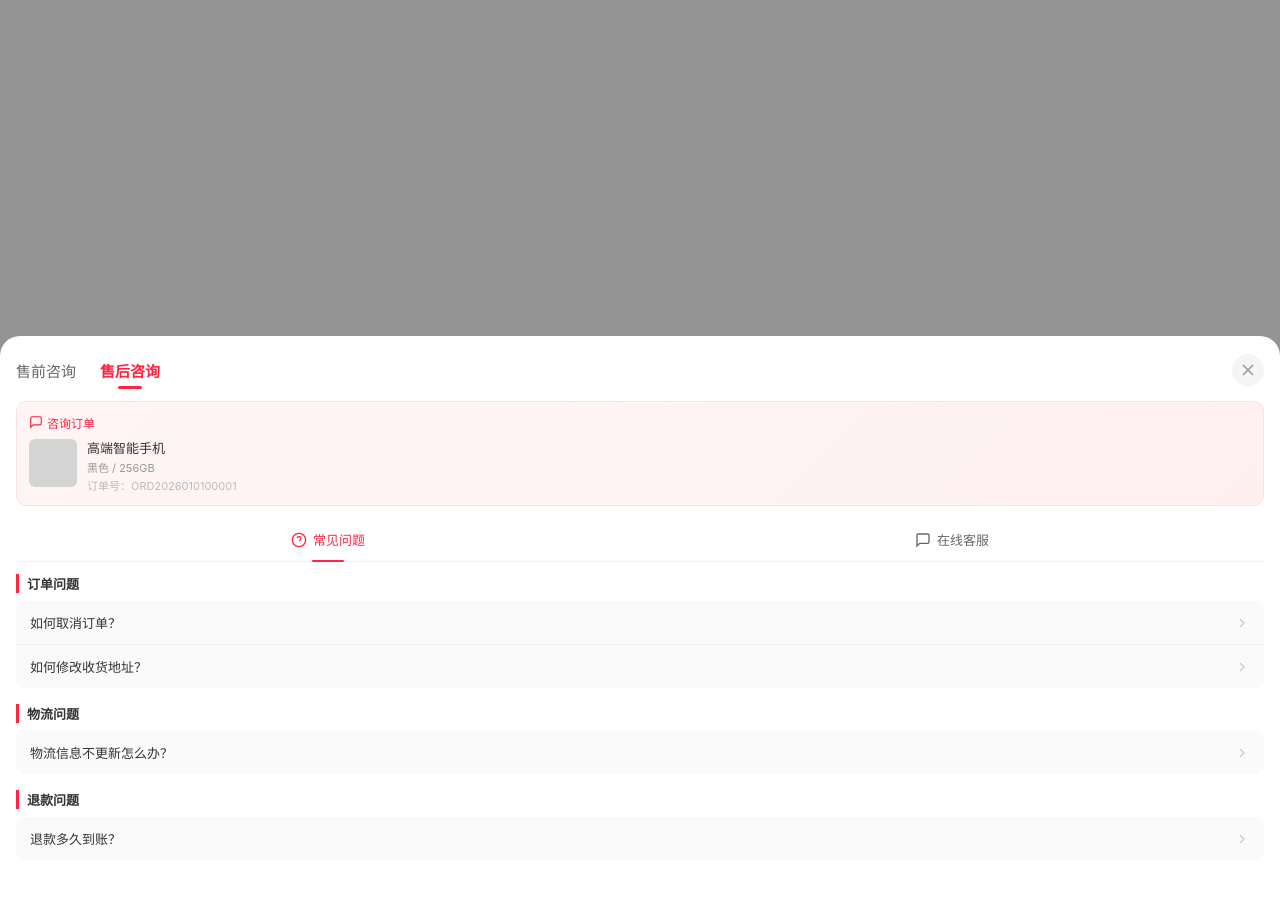
Test: CsServicePanel 联系客服入口 › 聊天模式 › 点击快捷操作应发送对应消息
Click the element with class "cs-tabs-bar__item" showing "在线客服". click: (952, 540)
box: [915,532,989,548]
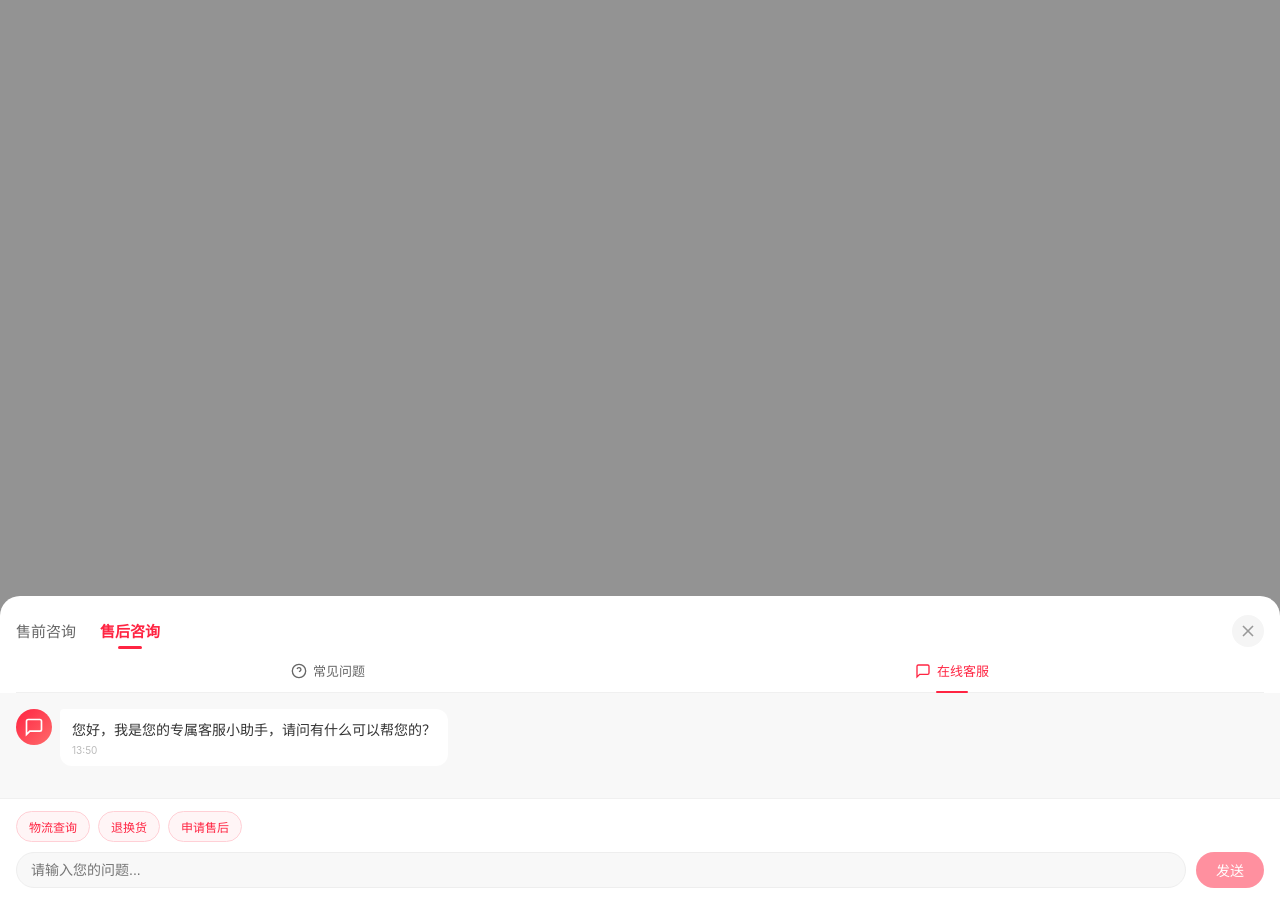
Click the button "物流查询". click: (53, 826)
box: [16,811,90,842]
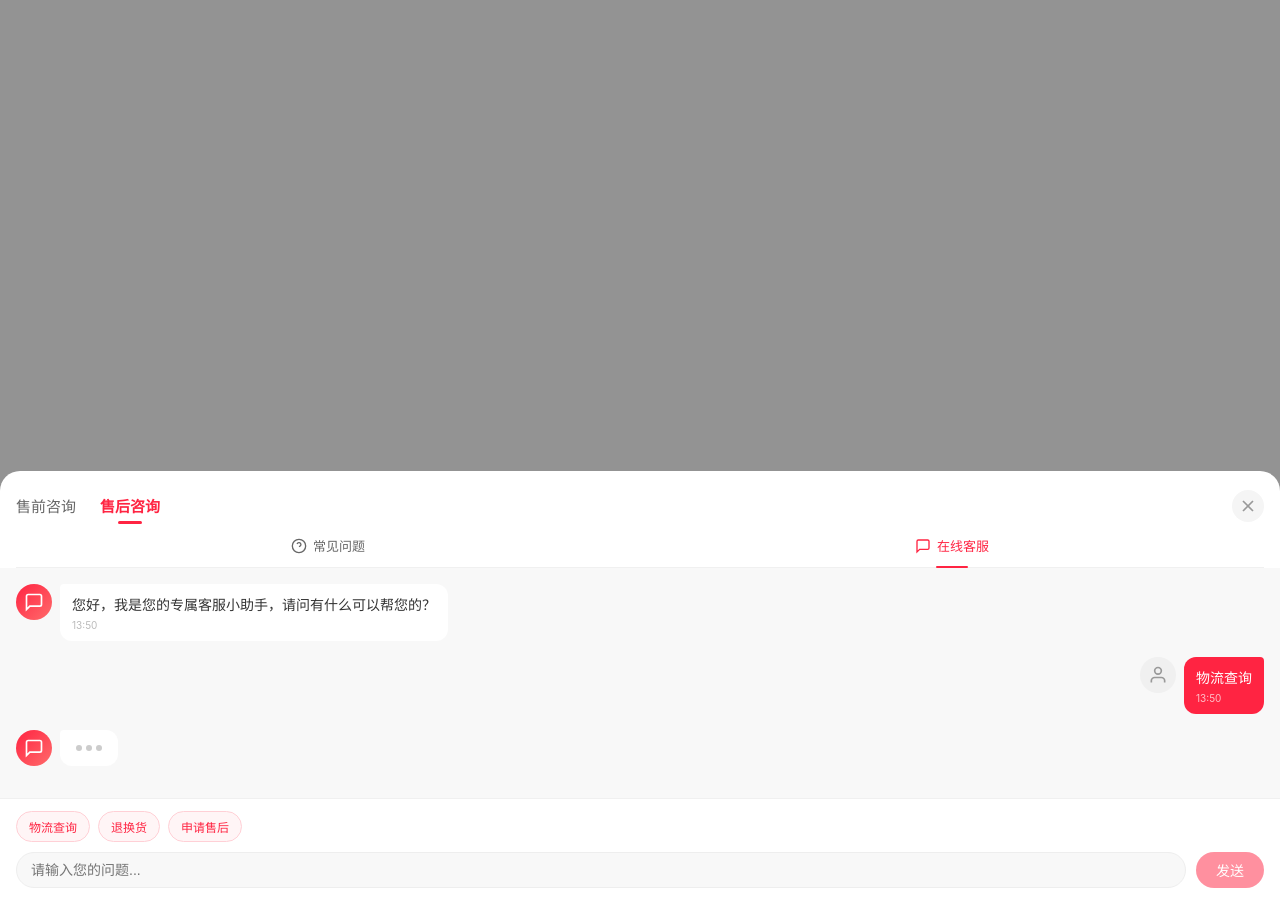
Check: the text "物流查询" is shown, box [1196,667,1252,688]
